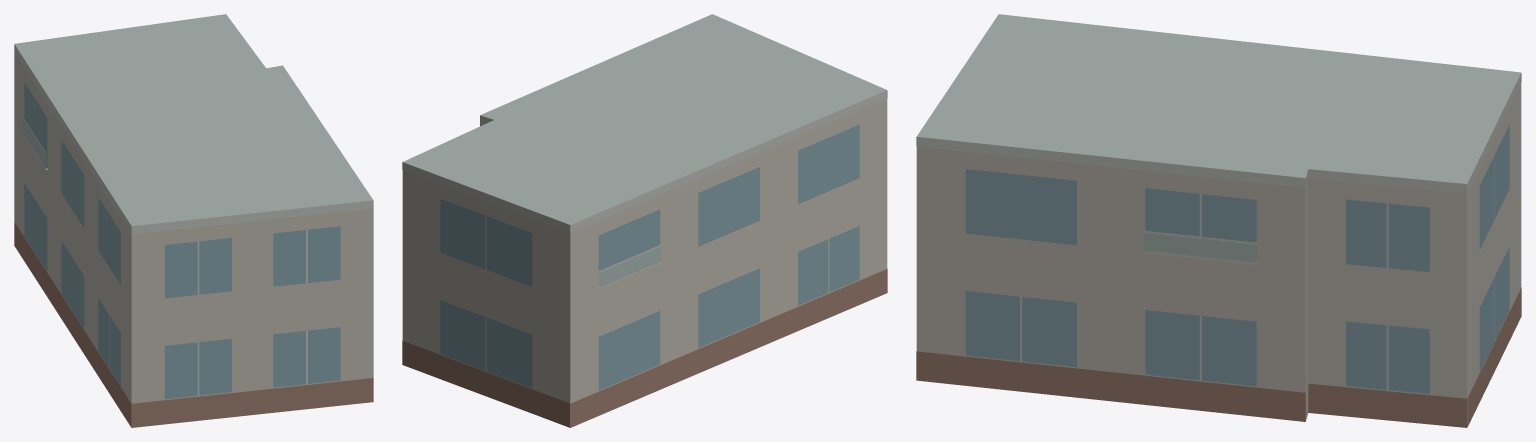
File: survey-upis-32777455.glb
3 views of the same model, side by side, from view 1: azimuth 30°, elevation 25°; view 2: azimuth 150°, elevation 25°; view 3: azimuth 270°, elevation 25° (orthographic). The views are drawn at different scales.
Parts seen in each view (by area): view 1: survey-upis-32777455.tmp; view 2: survey-upis-32777455.tmp; view 3: survey-upis-32777455.tmp.
Boxes of the visible parts, x1=… form: survey-upis-32777455.tmp: x1=14, y1=14, x2=373, y2=427; survey-upis-32777455.tmp: x1=402, y1=14, x2=887, y2=427; survey-upis-32777455.tmp: x1=916, y1=14, x2=1521, y2=427.
Bounding box in the file's own units: 9.14 × 6.1 × 13.73.
